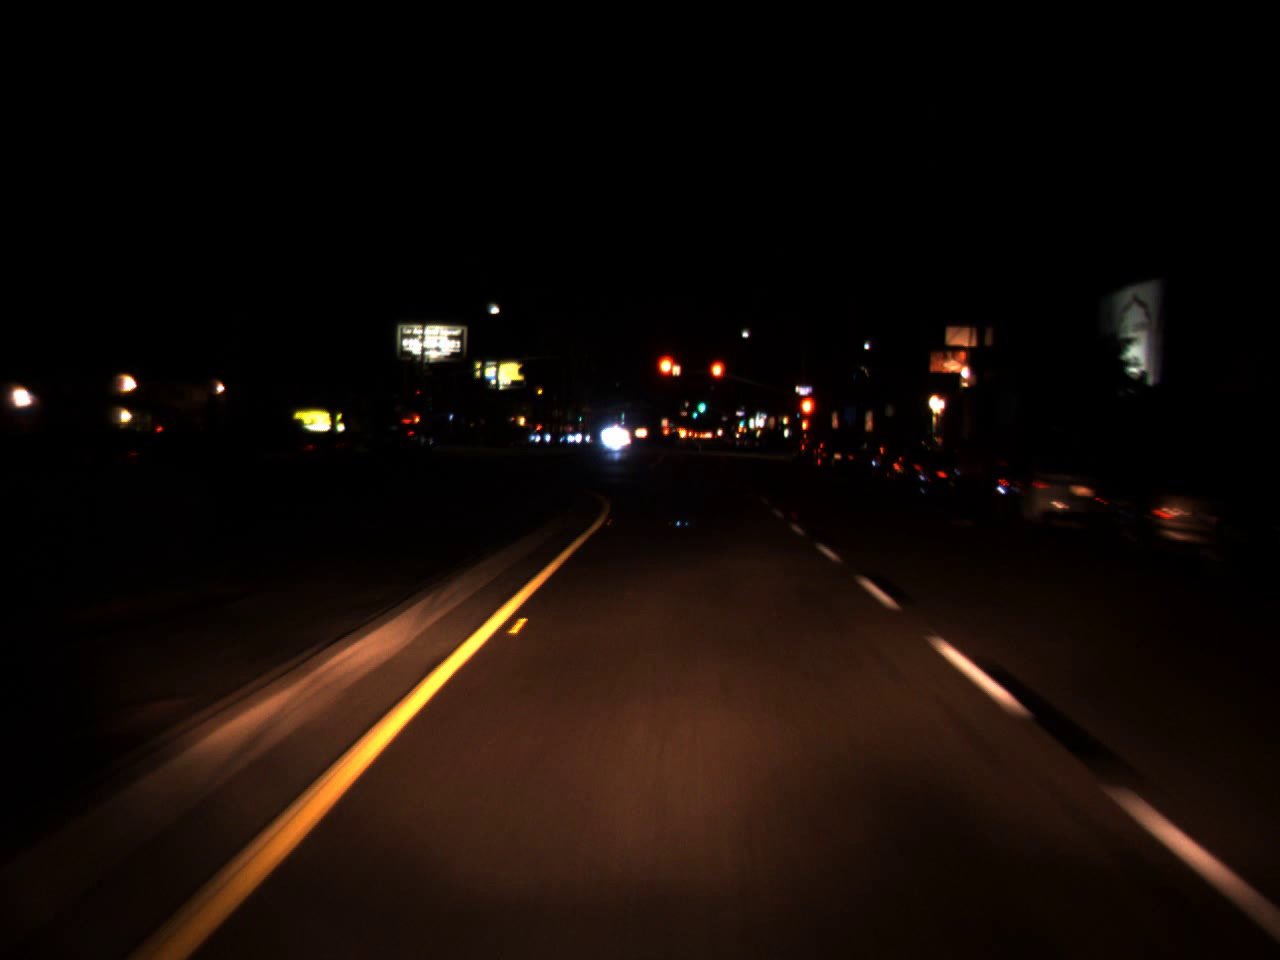go: (694, 392, 706, 416), (690, 403, 697, 421), (738, 416, 745, 428)
stop: (655, 351, 679, 399), (797, 394, 816, 437), (708, 359, 726, 394)
